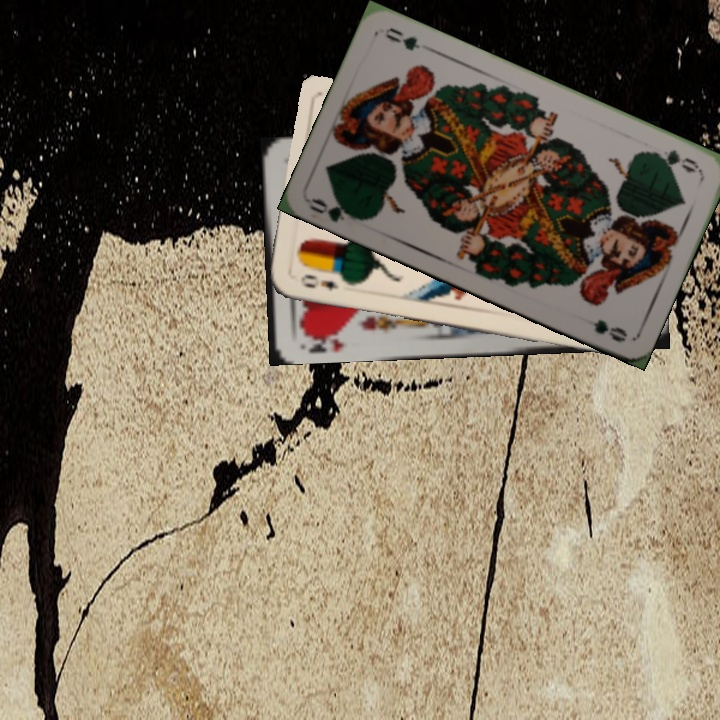EO: (296, 270, 341, 293)
GO: (305, 194, 366, 225), (646, 145, 703, 175)
HK: (299, 327, 347, 355)
